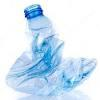BIODEGRADABLE: (7, 2, 96, 100)
